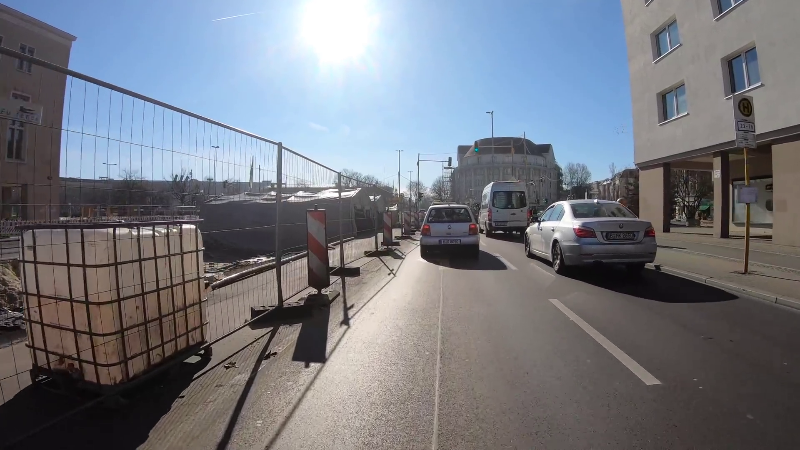Plate: (604, 229, 636, 240), (439, 236, 462, 245)
